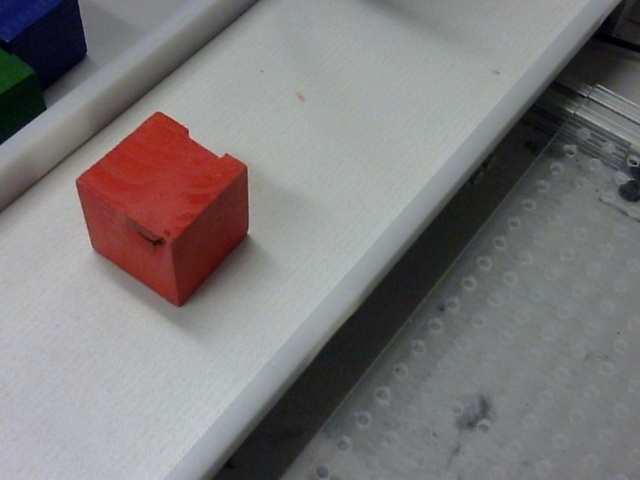RedBlock: (75, 111, 248, 310)
